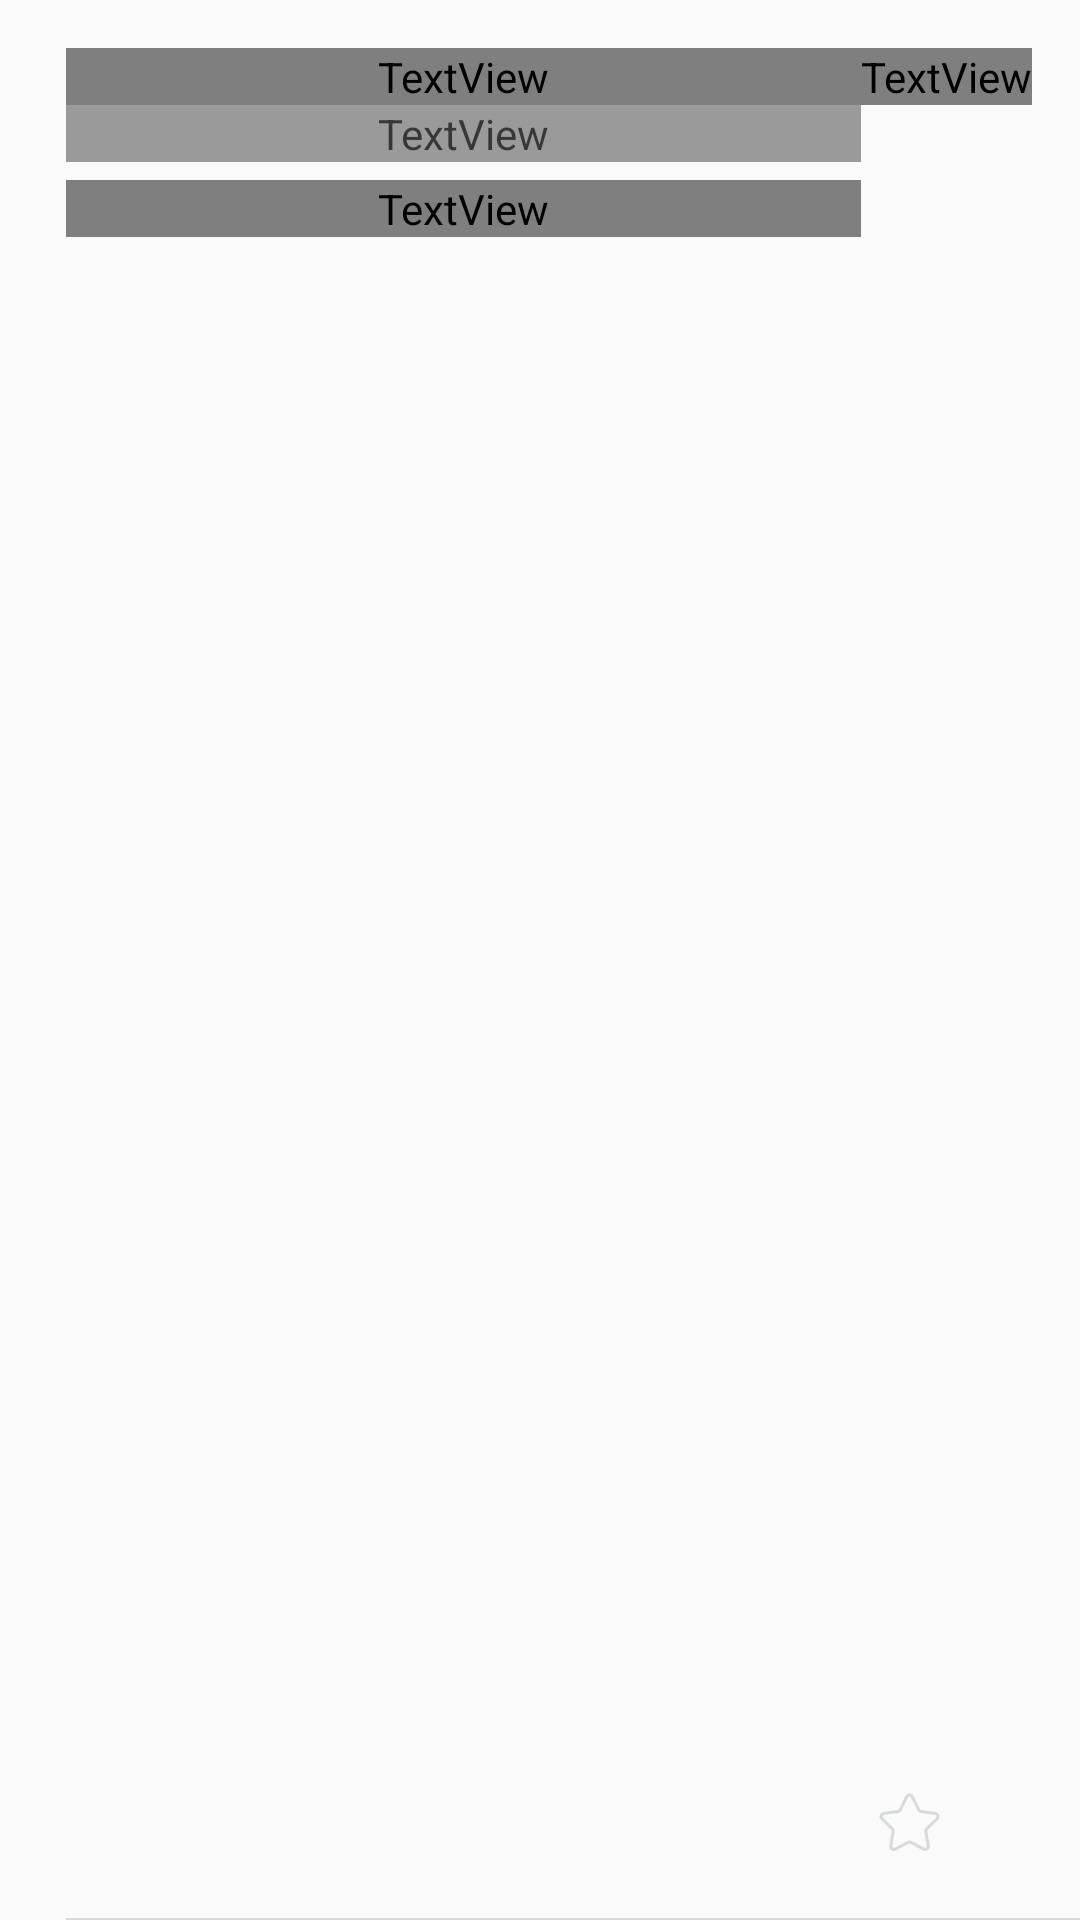

Where icons sit on this 1080w x 1920h app screen, as (x1, y1, x2, y2):
fav no: (880, 1794, 939, 1851)
